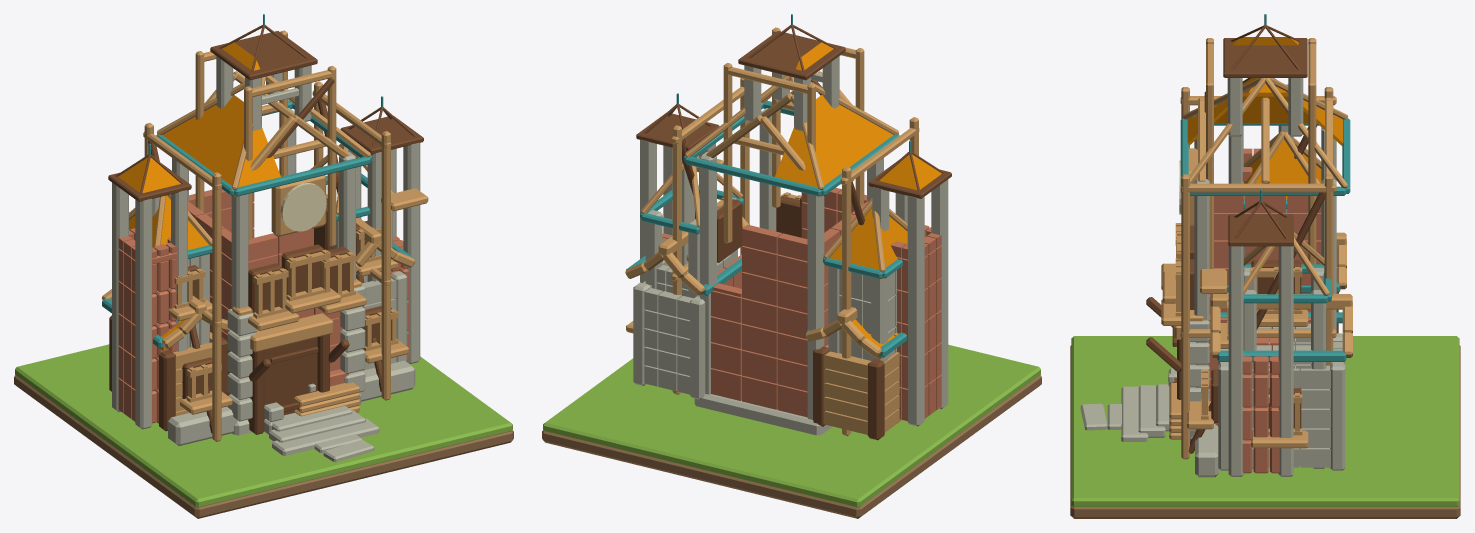
Rendered from town_hall_l09_construction_LOD0.glb.
3 renders of one model, left to right at view 1: azimuth 30°, elevation 25°; view 2: azimuth 150°, elevation 25°; view 3: azimuth 270°, elevation 25°, orthographic. The views are drawn at different scales.
Visible parts, largest first — view 1: town_hall_l09_construction_grass_tile, town_hall_l09_construction_earth_tile, town_hall_l09_construction_corner_reinforcement.024, town_hall_l09_construction_corner_reinforcement.030, town_hall_l09_construction_door_recess, town_hall_l09_construction_scaffold_post.002, town_hall_l09_construction_scaffold_post, town_hall_l09_construction_central_spire_cornice, town_hall_l09_construction_hip_roof_shingle.011, town_hall_l09_construction_corner_reinforcement.025, town_hall_l09_construction_corner_reinforcement, town_hall_l09_construction_door_lintel (+41 smaller); view 2: town_hall_l09_construction_grass_tile, town_hall_l09_construction_earth_tile, town_hall_l09_construction_corner_reinforcement.025, town_hall_l09_construction_corner_reinforcement.001, town_hall_l09_construction_corner_reinforcement.003, town_hall_l09_construction_central_spire_cornice, town_hall_l09_construction_hip_roof_shingle.011, town_hall_l09_construction_corner_reinforcement.024, town_hall_l09_construction_foundation, town_hall_l09_construction_scaffold_post.001, town_hall_l09_construction_corner_reinforcement.009, town_hall_l09_construction_tower_frame_upright.003 (+56 smaller); view 3: town_hall_l09_construction_grass_tile, town_hall_l09_construction_earth_tile, town_hall_l09_construction_corner_reinforcement.030, town_hall_l09_construction_corner_reinforcement.031, town_hall_l09_construction_central_spire_cornice, town_hall_l09_construction_scaffold_post.002, town_hall_l09_construction_right_spire_cornice, town_hall_l09_construction_corner_reinforcement.002, town_hall_l09_construction_corner_reinforcement.011, town_hall_l09_construction_scaffold_rail.003, town_hall_l09_construction_scaffold_post.003, town_hall_l09_construction_tower_frame_upright.003 (+45 smaller).
Boxes of the visible parts, left/top/right/bottom form: town_hall_l09_construction_grass_tile: left=15, top=344, right=512, bottom=507; town_hall_l09_construction_earth_tile: left=14, top=375, right=513, bottom=518; town_hall_l09_construction_corner_reinforcement.024: left=135, top=198, right=152, bottom=429; town_hall_l09_construction_corner_reinforcement.030: left=403, top=142, right=420, bottom=363; town_hall_l09_construction_door_recess: left=264, top=337, right=317, bottom=419; town_hall_l09_construction_scaffold_post.002: left=381, top=131, right=390, bottom=400; town_hall_l09_construction_scaffold_post: left=212, top=172, right=221, bottom=441; town_hall_l09_construction_central_spire_cornice: left=210, top=31, right=317, bottom=80; town_hall_l09_construction_hip_roof_shingle.011: left=162, top=117, right=240, bottom=195; town_hall_l09_construction_corner_reinforcement.025: left=112, top=182, right=128, bottom=412; town_hall_l09_construction_corner_reinforcement: left=231, top=194, right=248, bottom=420; town_hall_l09_construction_door_lintel: left=250, top=313, right=333, bottom=352; town_hall_l09_construction_grass_tile: left=543, top=344, right=1040, bottom=507; town_hall_l09_construction_earth_tile: left=542, top=375, right=1041, bottom=518; town_hall_l09_construction_corner_reinforcement.025: left=907, top=195, right=924, bottom=426; town_hall_l09_construction_corner_reinforcement.001: left=807, top=194, right=824, bottom=419; town_hall_l09_construction_corner_reinforcement.003: left=700, top=152, right=716, bottom=394; town_hall_l09_construction_central_spire_cornice: left=738, top=31, right=845, bottom=80; town_hall_l09_construction_hip_roof_shingle.011: left=815, top=117, right=893, bottom=195; town_hall_l09_construction_corner_reinforcement.024: left=931, top=179, right=948, bottom=409; town_hall_l09_construction_foundation: left=694, top=394, right=832, bottom=435; town_hall_l09_construction_scaffold_post.001: left=842, top=166, right=851, bottom=436; town_hall_l09_construction_corner_reinforcement.009: left=690, top=296, right=705, bottom=399; town_hall_l09_construction_tower_frame_upright.003: left=723, top=63, right=732, bottom=243; town_hall_l09_construction_grass_tile: left=1071, top=336, right=1459, bottom=506; town_hall_l09_construction_earth_tile: left=1070, top=345, right=1460, bottom=518; town_hall_l09_construction_corner_reinforcement.030: left=1228, top=246, right=1243, bottom=476; town_hall_l09_construction_corner_reinforcement.031: left=1278, top=246, right=1293, bottom=476; town_hall_l09_construction_central_spire_cornice: left=1223, top=38, right=1307, bottom=77; town_hall_l09_construction_scaffold_post.002: left=1181, top=174, right=1189, bottom=459; town_hall_l09_construction_right_spire_cornice: left=1228, top=214, right=1293, bottom=246; town_hall_l09_construction_corner_reinforcement.002: left=1194, top=179, right=1209, bottom=433; town_hall_l09_construction_corner_reinforcement.011: left=1330, top=362, right=1345, bottom=470; town_hall_l09_construction_scaffold_rail.003: left=1180, top=183, right=1336, bottom=192; town_hall_l09_construction_scaffold_post.003: left=1324, top=174, right=1333, bottom=365; town_hall_l09_construction_tower_frame_upright.003: left=1308, top=81, right=1316, bottom=264.
Size of the model in its own units: 3.6 by 4.31 by 3.6.
